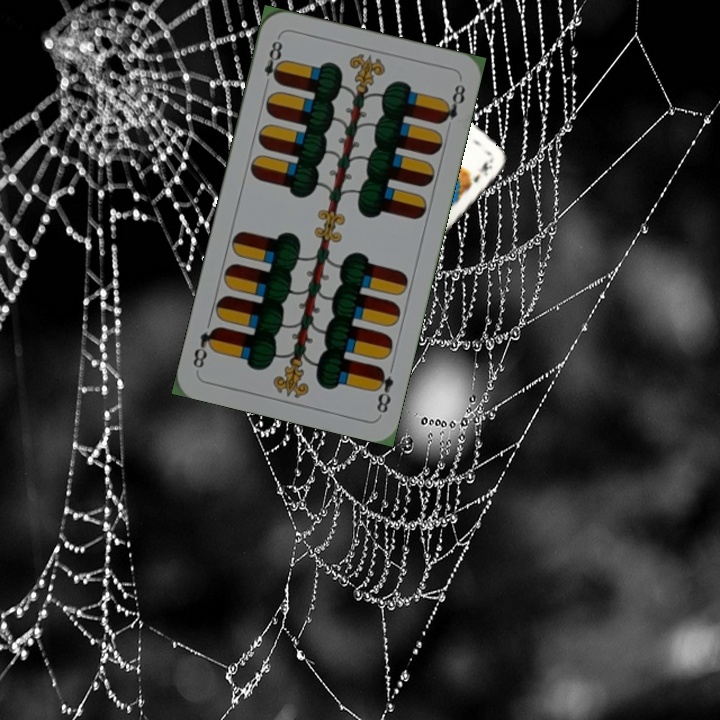E8: (260, 33, 286, 91), (370, 362, 396, 416)
